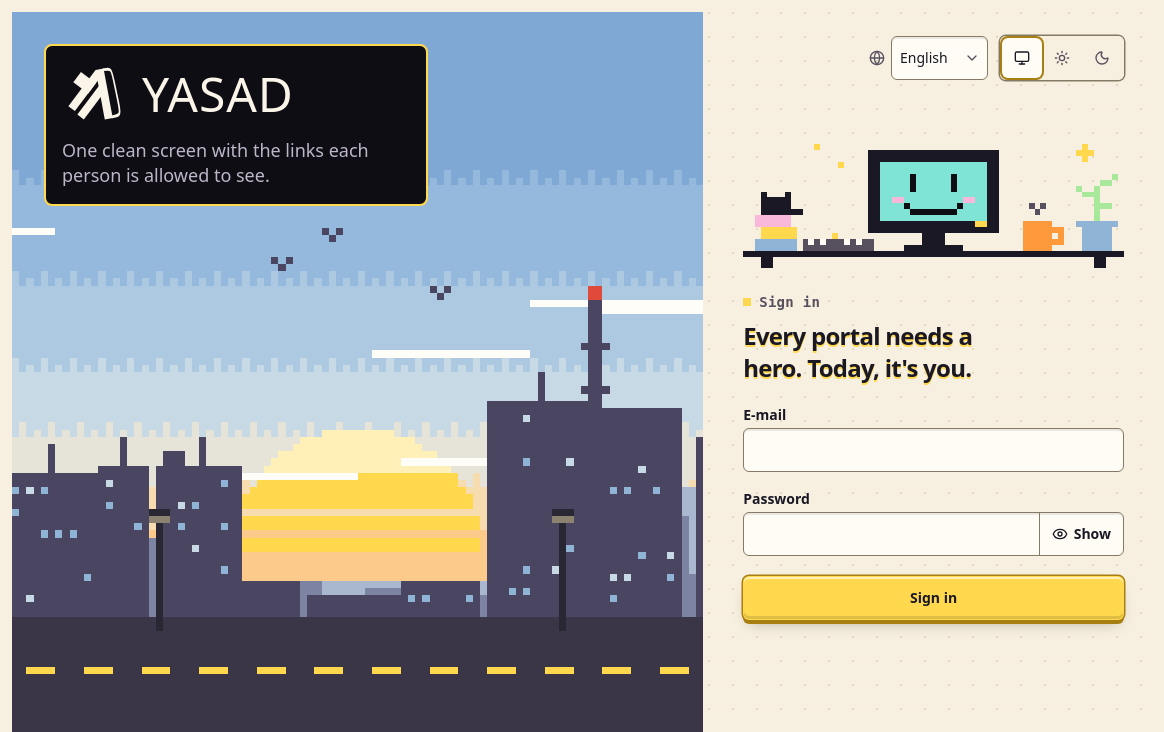
Scenario: App › anonymous visitor › gets the sign-in form on /sign-in even with public links, then lands on / once signed in
Check: the heading "Sign in" is shown, box top-left (743, 294), bottom-right (820, 310)
Type "bob@example.invalid" into the field labelled "E-mail" at point(934, 450), box top-left (743, 428), bottom-right (1124, 472)
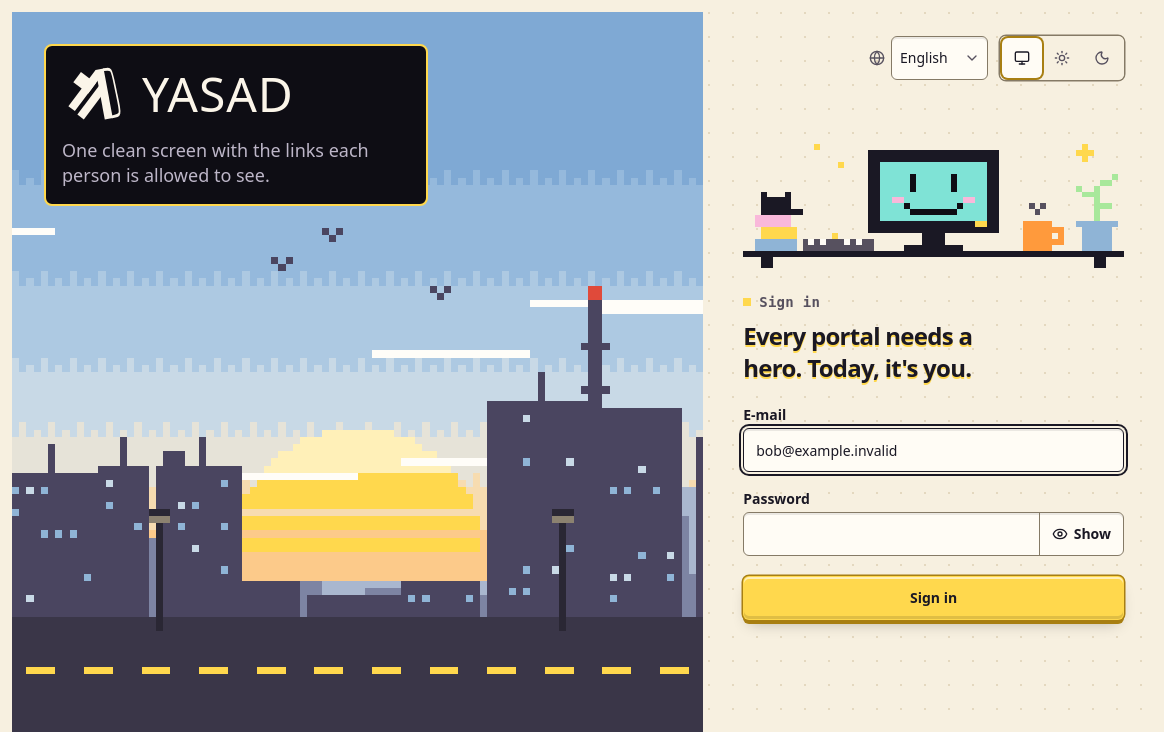
Type "a long enough password" into the password field labelled "Password" at point(891, 534), box top-left (744, 514), bottom-right (1039, 556)
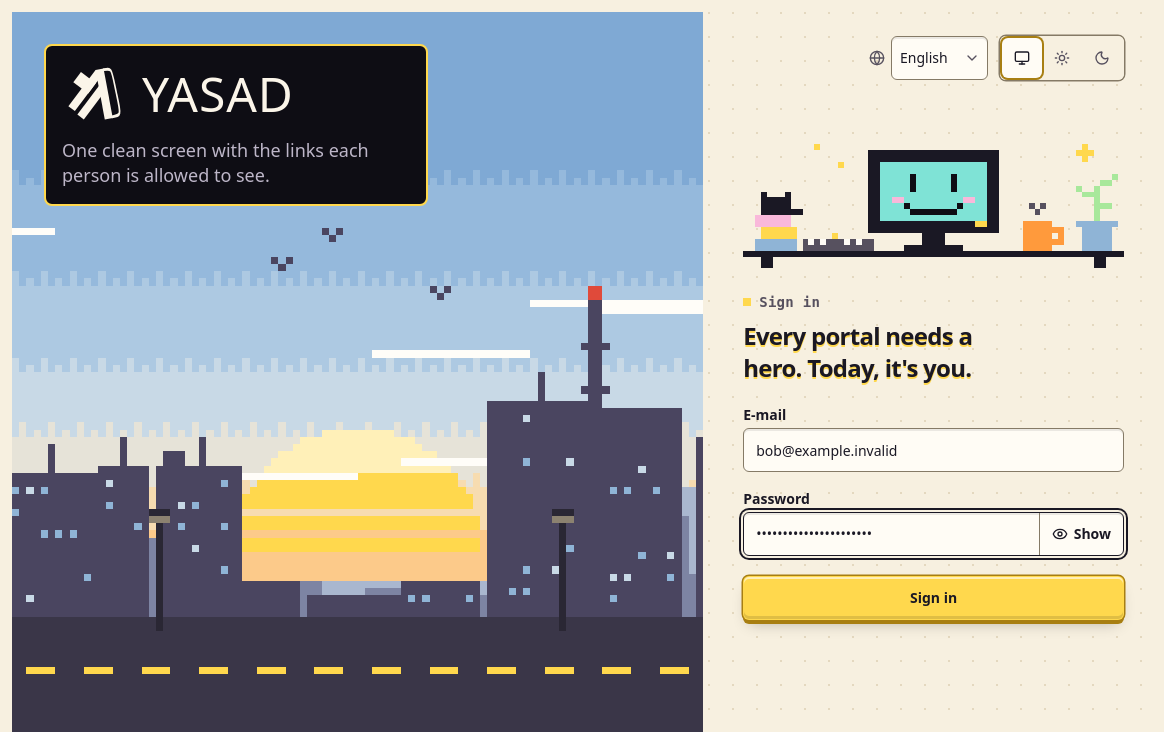
Click the button "Sign in" at point(934, 598), box top-left (743, 576), bottom-right (1124, 620)
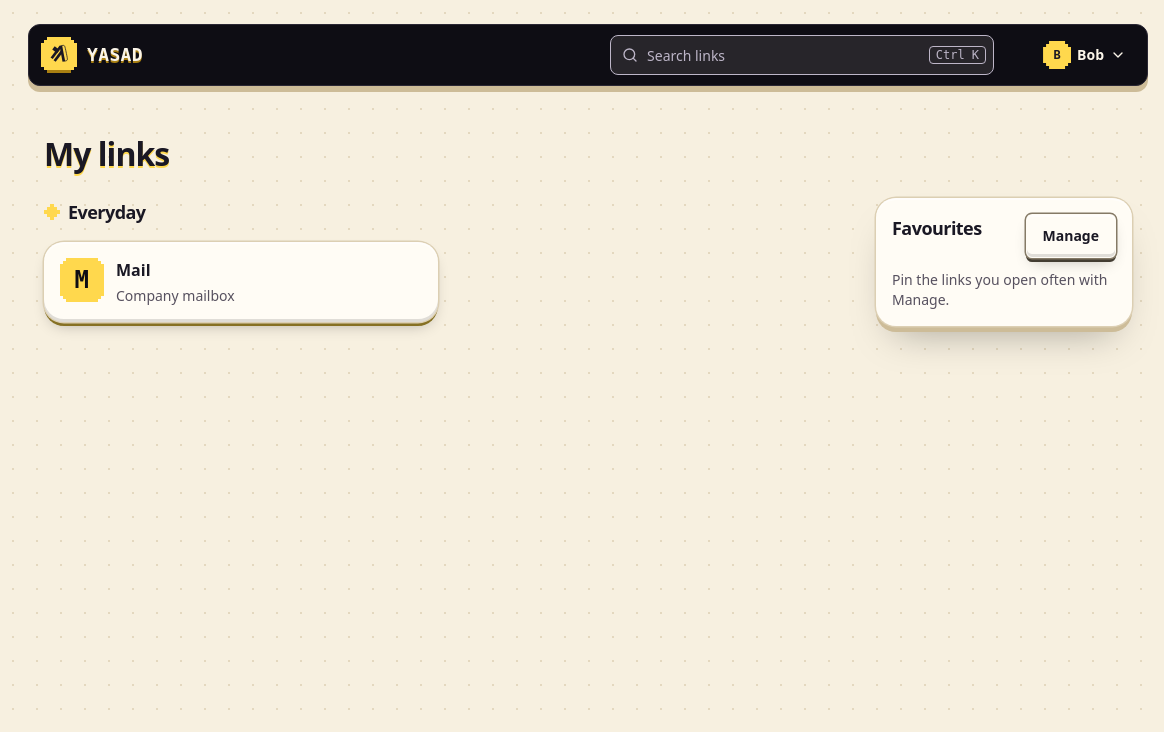
Check: the heading "My links" is shown, box top-left (44, 134), bottom-right (169, 174)
Check: the link "Mail" is shown, box top-left (116, 259), bottom-right (150, 281)
